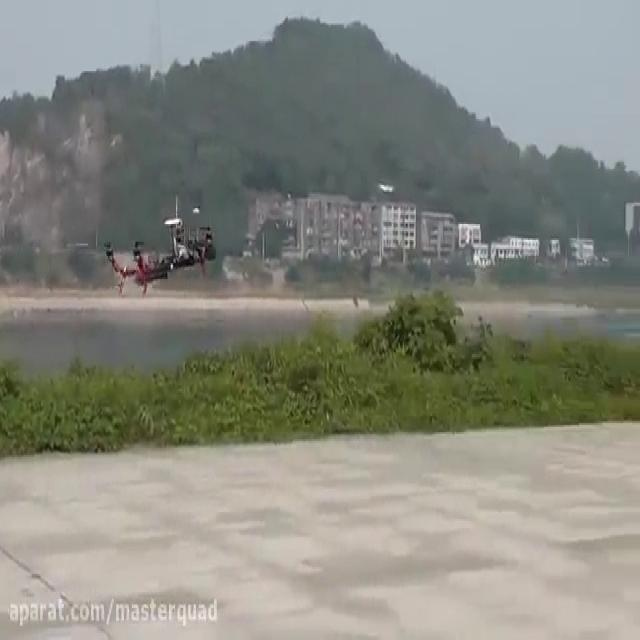drone: (97, 203, 219, 297)
